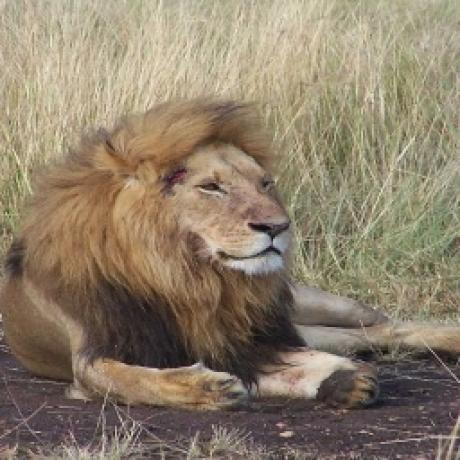Lion: (0, 95, 460, 411)
